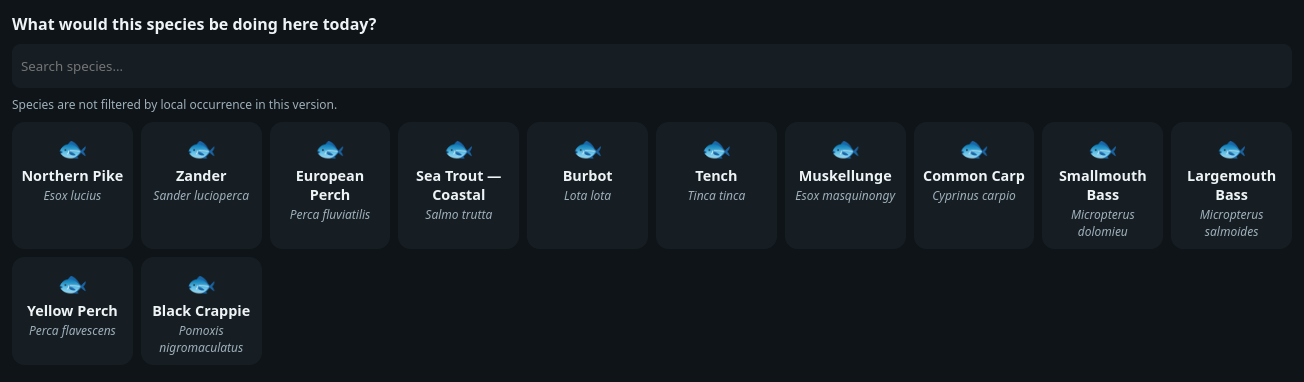
Test: SpeciesCatalog › filters by an alternate name, case-insensitively
The width and height of the screenshot is (1304, 382).
Type "SANDART" into the search field labelled "Search species".
click(652, 66); type("SANDART")  # box [12,44,1292,88]
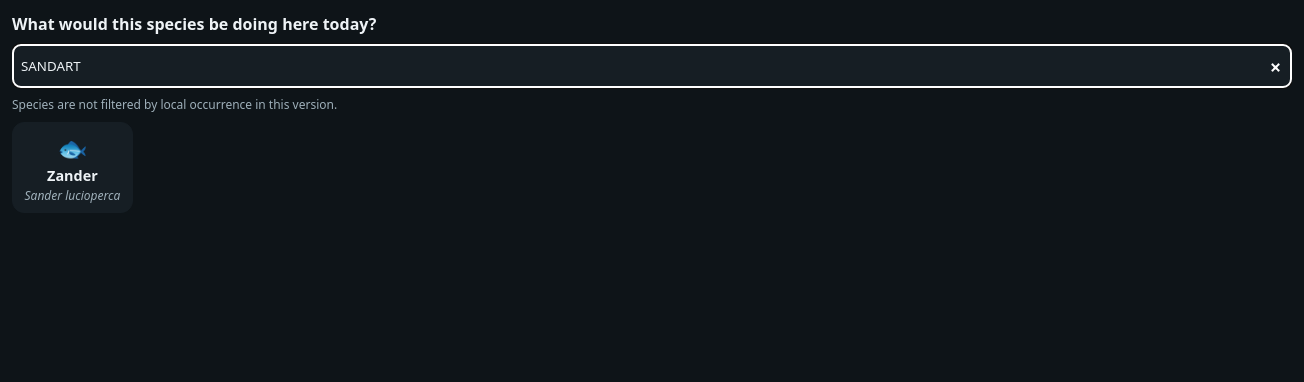
Expected: the button "🐟 Zander Sander lucioperca" is shown, [12,122,133,213]
Expected: the button "Northern Pike" is gone
